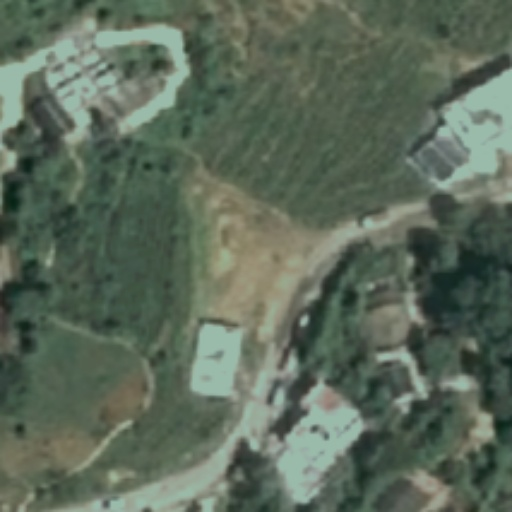landslide: (192, 169, 314, 321)
